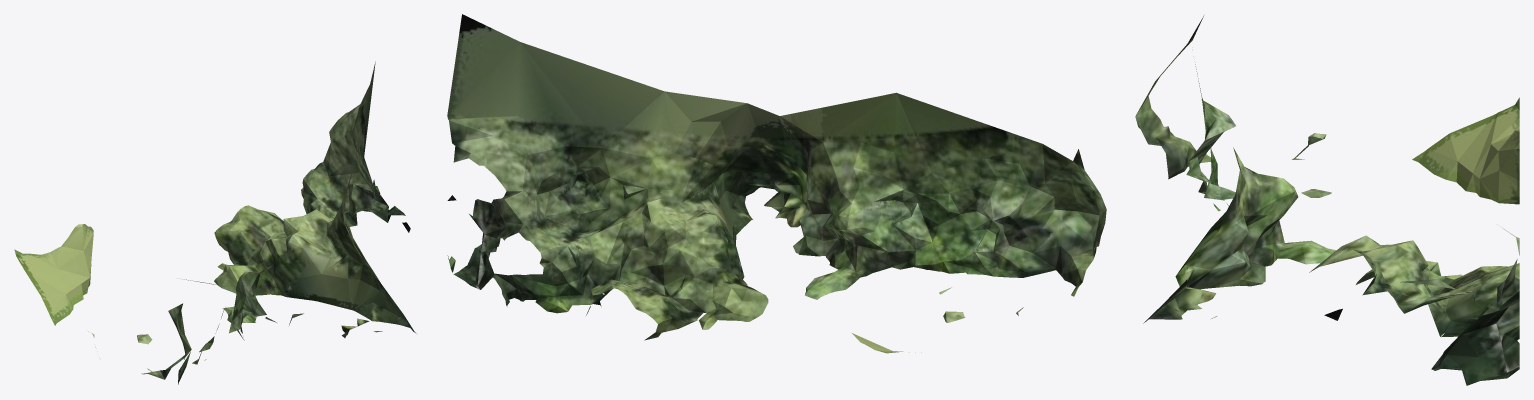
3 renders of one model, left to right at view 1: azimuth 30°, elevation 25°; view 2: azimuth 150°, elevation 25°; view 3: azimuth 270°, elevation 25°, orthographic. The views are drawn at different scales.
Size of the model in its own units: 52.22 by 28.15 by 36.48.
Materials: 2 (2 with a texture image).
